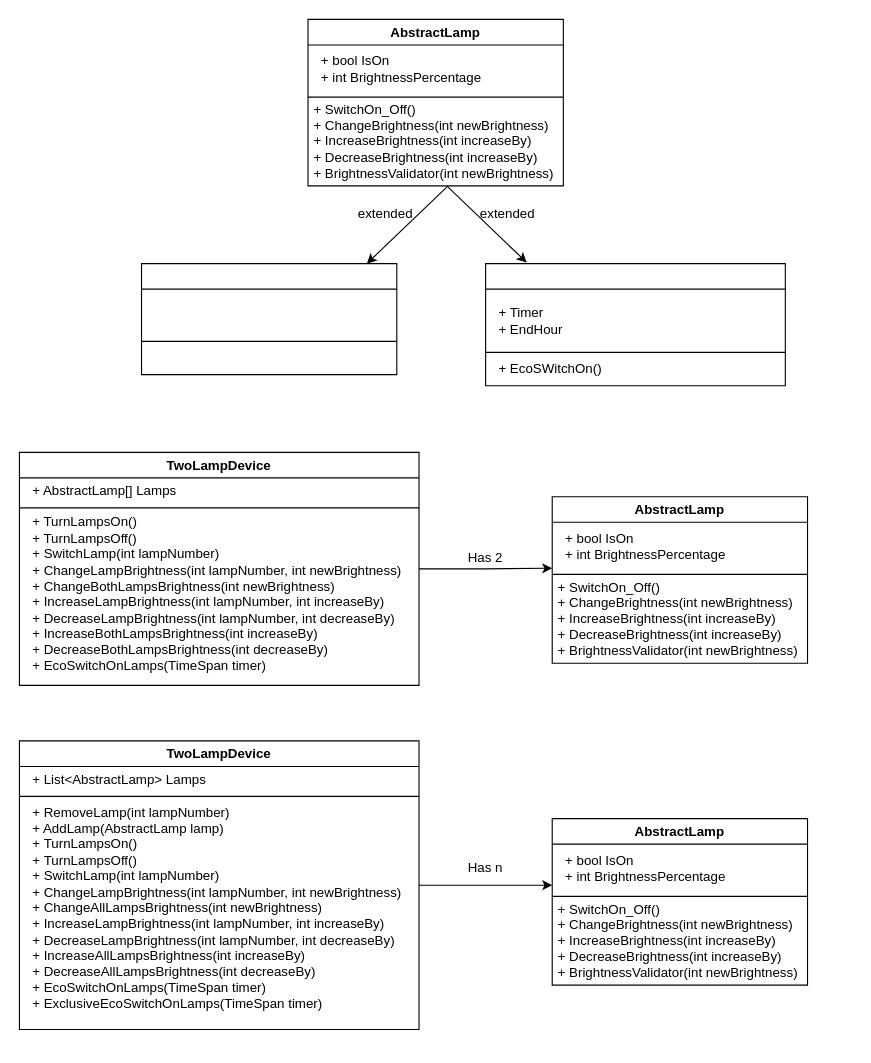
This 871x1063 diagram has some shape labels left out. Each missing label, with the box of its shape:
EcoLamp: (485, 263, 785, 386)
StanderdLamp: (140, 263, 397, 375)
